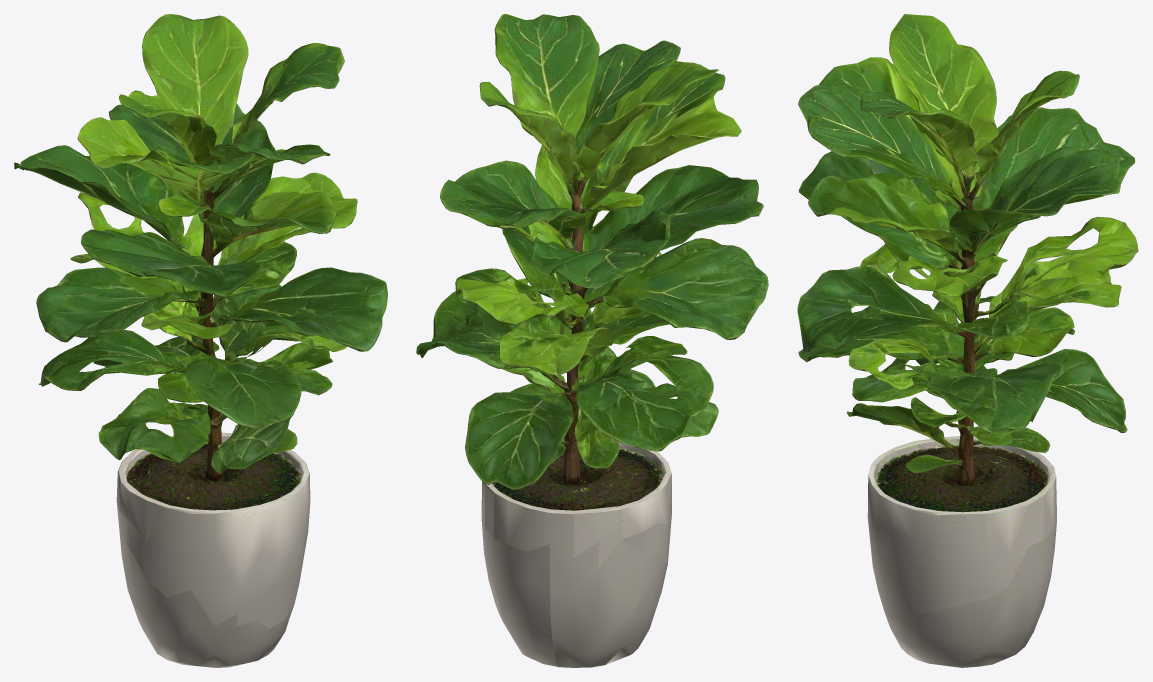
The picture shows the model from 3 angles, left to right: view 1: azimuth 30°, elevation 25°; view 2: azimuth 150°, elevation 25°; view 3: azimuth 270°, elevation 25°; orthographic projection.
Bounding box in the file's own units: 0.6005 × 1.1 × 0.587.
Materials: 1 (1 with a texture image).
